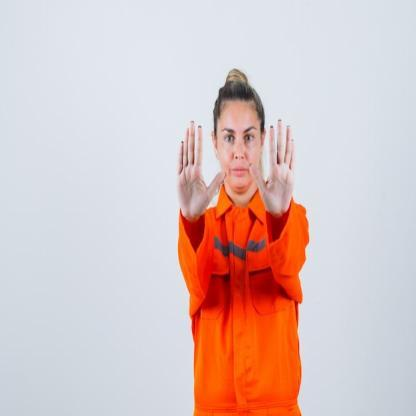stop: (174, 118, 228, 222), (248, 115, 298, 220)
